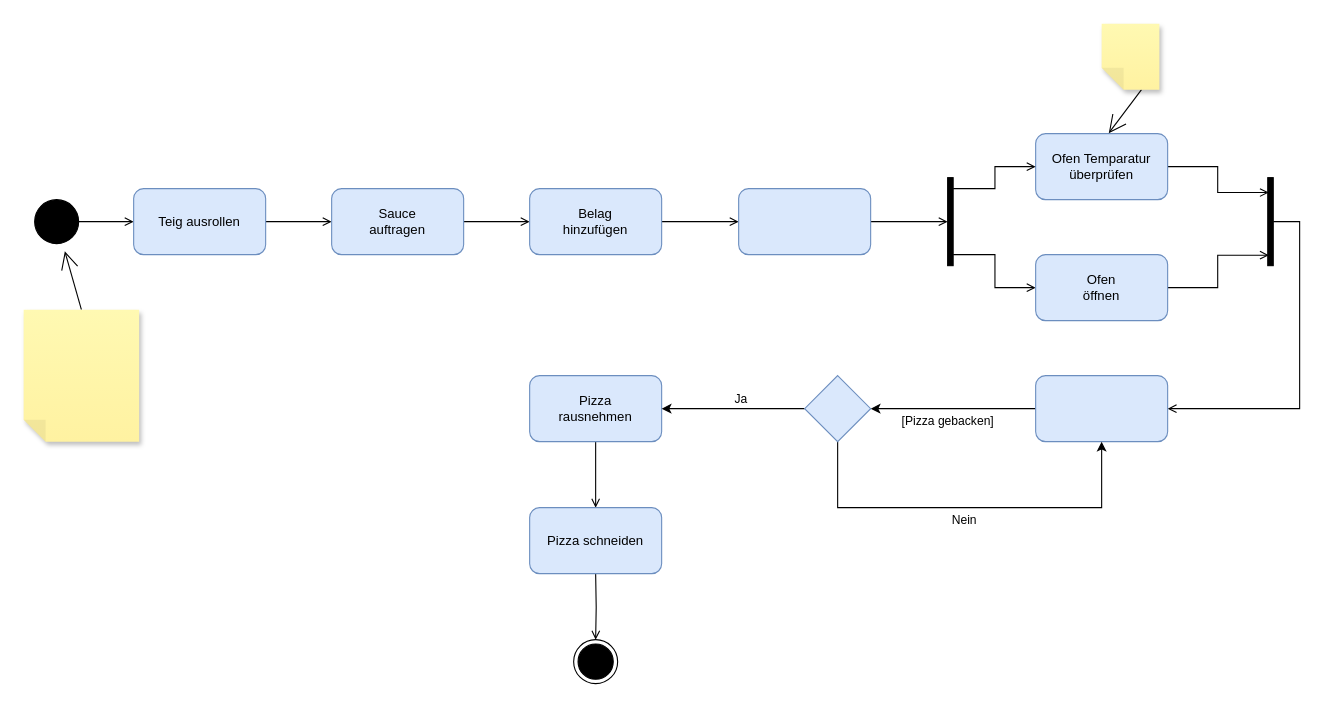
Some shapes in this 1328 by 703 pixel diagram are drawn without their labels. The centre of each missing label's shape, as x and y in pixels:
"(400 Grad)" belongs at pixel 1131 58.
"Käse verteilen" belongs at pixel 804 221.
"Pizza backen" belongs at pixel 1101 408.
"Pizza und Ofen soll parallel laufen" belongs at pixel 82 377.
